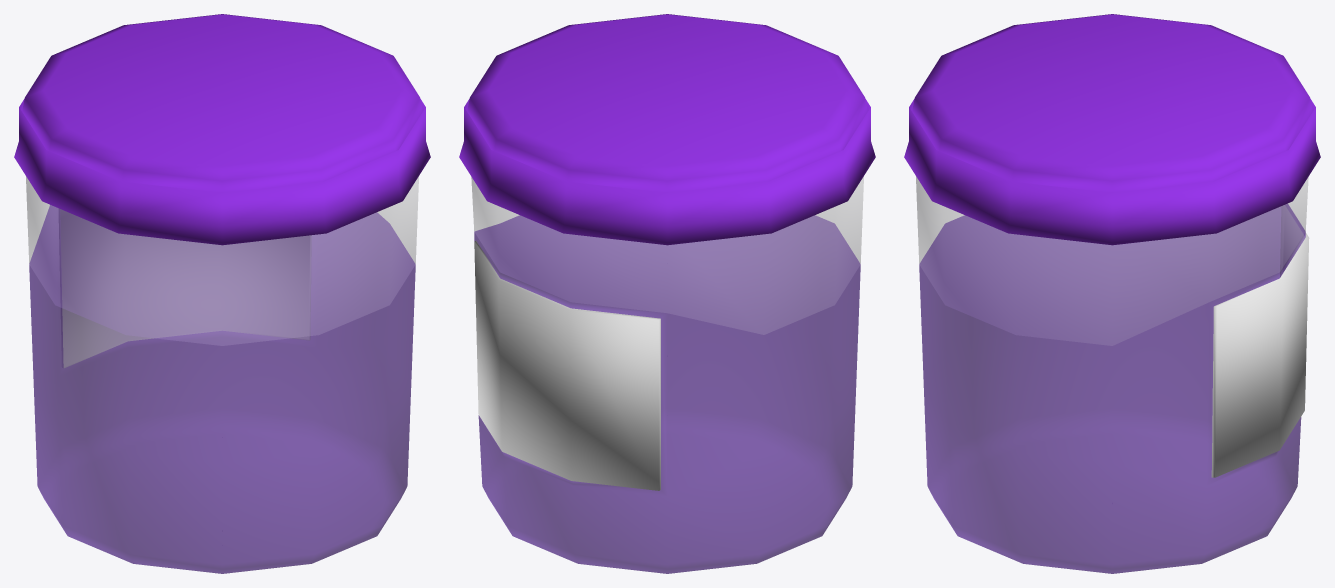
Rendered from props_jam.fbx.
The picture shows the model from 3 angles, left to right: view 1: azimuth 30°, elevation 25°; view 2: azimuth 150°, elevation 25°; view 3: azimuth 270°, elevation 25°; orthographic projection.
Parts seen in each view (by area): view 1: Cylinder.002; view 2: Cylinder.002; view 3: Cylinder.002.
Boxes of the visible parts, box(x1,y1,x2,y2) form: Cylinder.002: box(14, 14, 430, 573); Cylinder.002: box(459, 14, 875, 573); Cylinder.002: box(904, 14, 1320, 573).
Size of the model in its own units: 0.4285 by 0.4285 by 0.4685.
